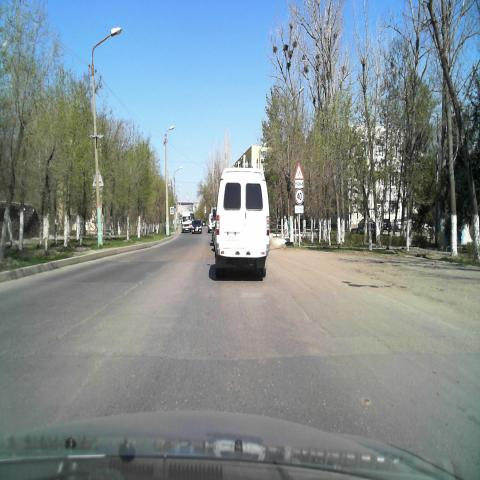1_23: (294, 163, 304, 181)
